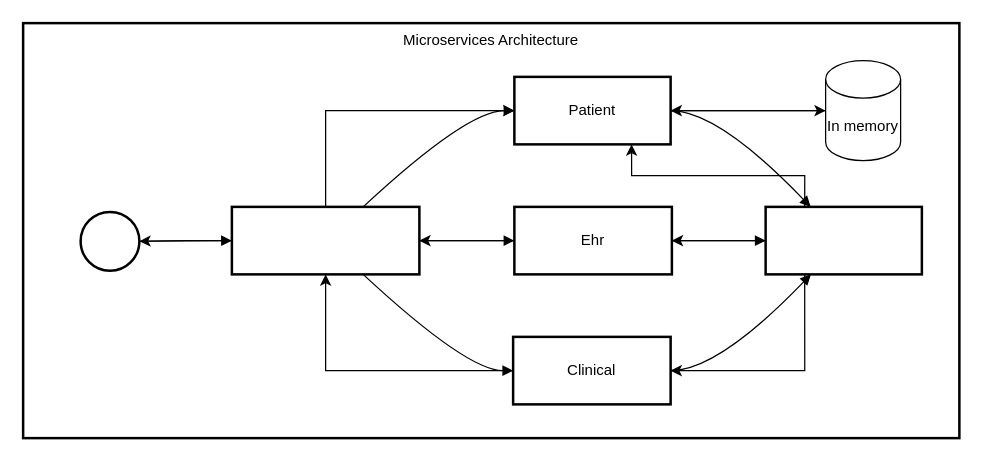
The diagram is 981 pixels wide and 460 high, and some of its shapes have lost their labels. The centre of each missing label's shape, as x and y in pixels:
"Client" belongs at point 109,240.
"Gateway/ Core" belongs at point 325,240.
"Redis" belongs at point 843,240.
